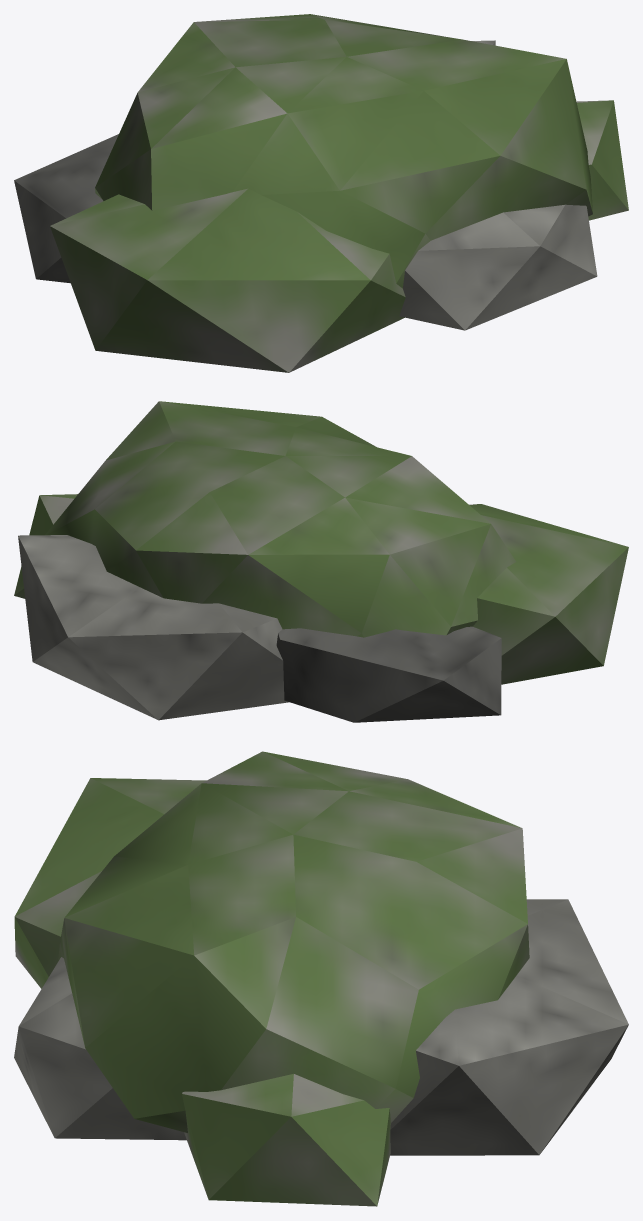
The model's file is SM_Boulder03_LOD1.fbx.
The picture shows the model from 3 angles, top to bottom: view 1: azimuth 30°, elevation 25°; view 2: azimuth 150°, elevation 25°; view 3: azimuth 270°, elevation 25°; orthographic projection. The views are drawn at different scales.
Visible parts, largest first — view 1: SM_Boulder03_LOD1; view 2: SM_Boulder03_LOD1; view 3: SM_Boulder03_LOD1.
Part boxes in pixels (left/top/right/bottom): SM_Boulder03_LOD1: left=14, top=14, right=628, bottom=372; SM_Boulder03_LOD1: left=14, top=401, right=628, bottom=722; SM_Boulder03_LOD1: left=14, top=751, right=628, bottom=1206.
Size of the model in its own units: 6.86 by 2.18 by 5.46.
Materials: 1 (1 with a texture image).
